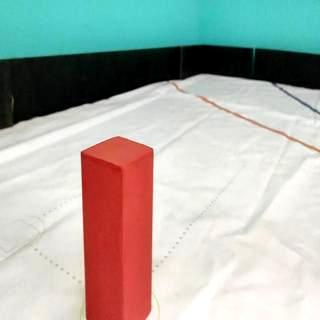redbox: (81, 135, 156, 320)
